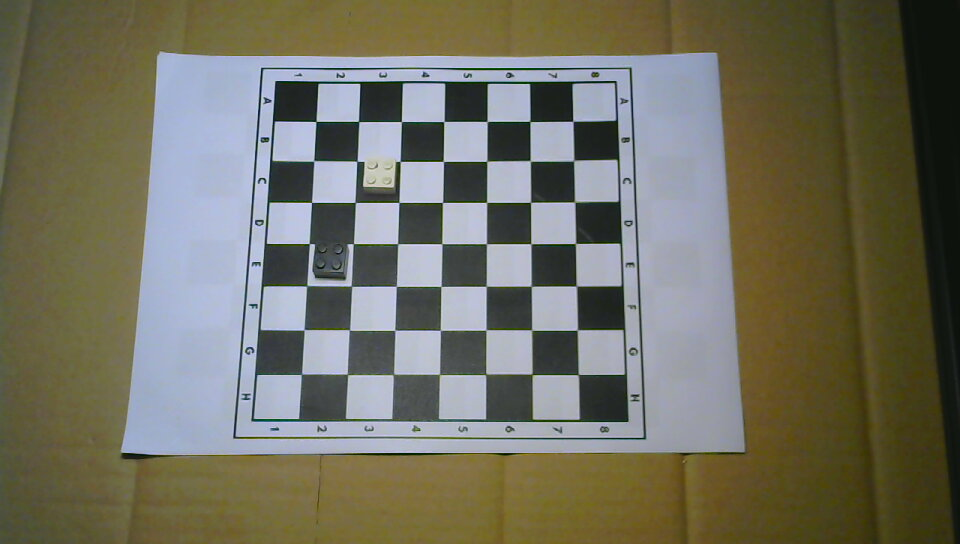bp: (312, 239, 351, 280)
wp: (361, 155, 398, 196)
